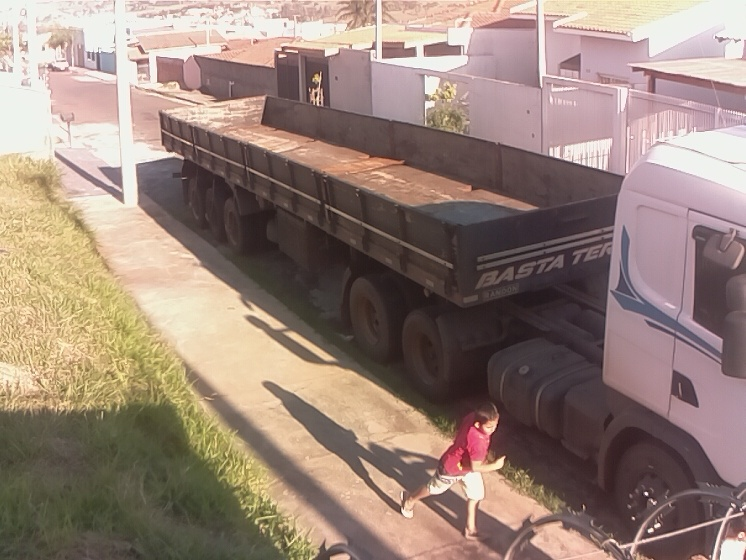person: (400, 400, 510, 546)
